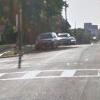Crosswalk: (7, 65, 92, 87)
